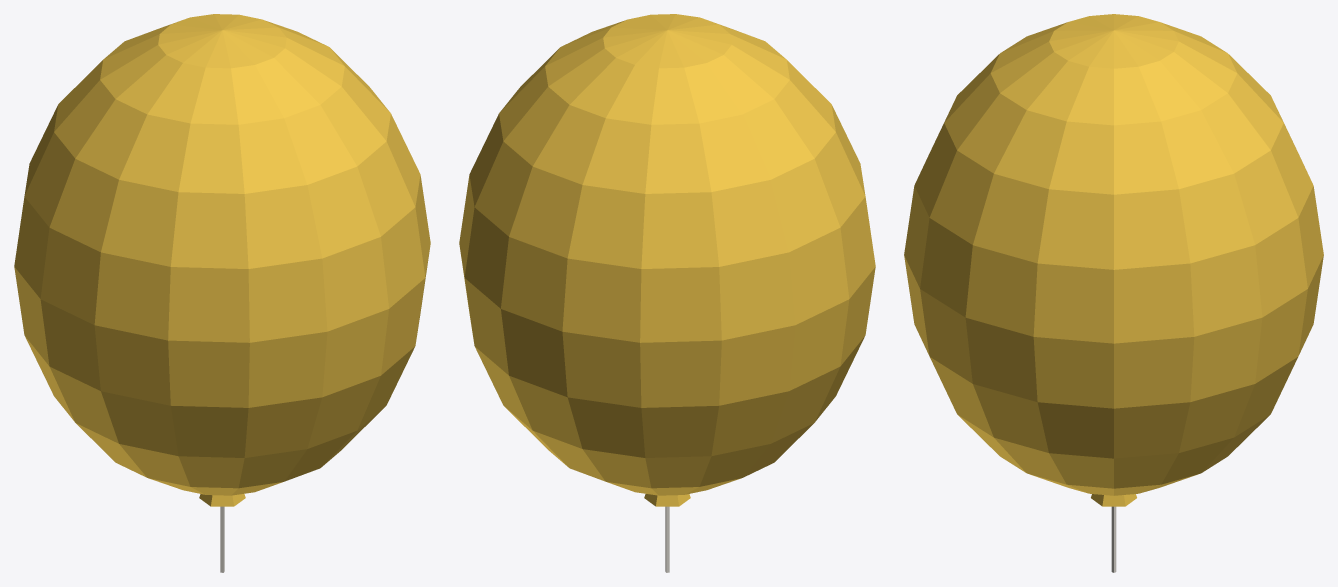
File: balloon_yellow.glb
3 views of the same model, side by side, from view 1: azimuth 30°, elevation 25°; view 2: azimuth 150°, elevation 25°; view 3: azimuth 270°, elevation 25° (orthographic).
Parts seen in each view (by area): view 1: balloon_yellow; view 2: balloon_yellow; view 3: balloon_yellow.
Part boxes in pixels (<box>): balloon_yellow: <box>14,14,430,572</box>; balloon_yellow: <box>459,14,875,572</box>; balloon_yellow: <box>904,14,1323,572</box>.
Bounding box in the file's own units: 0.18 × 0.2562 × 0.18.
